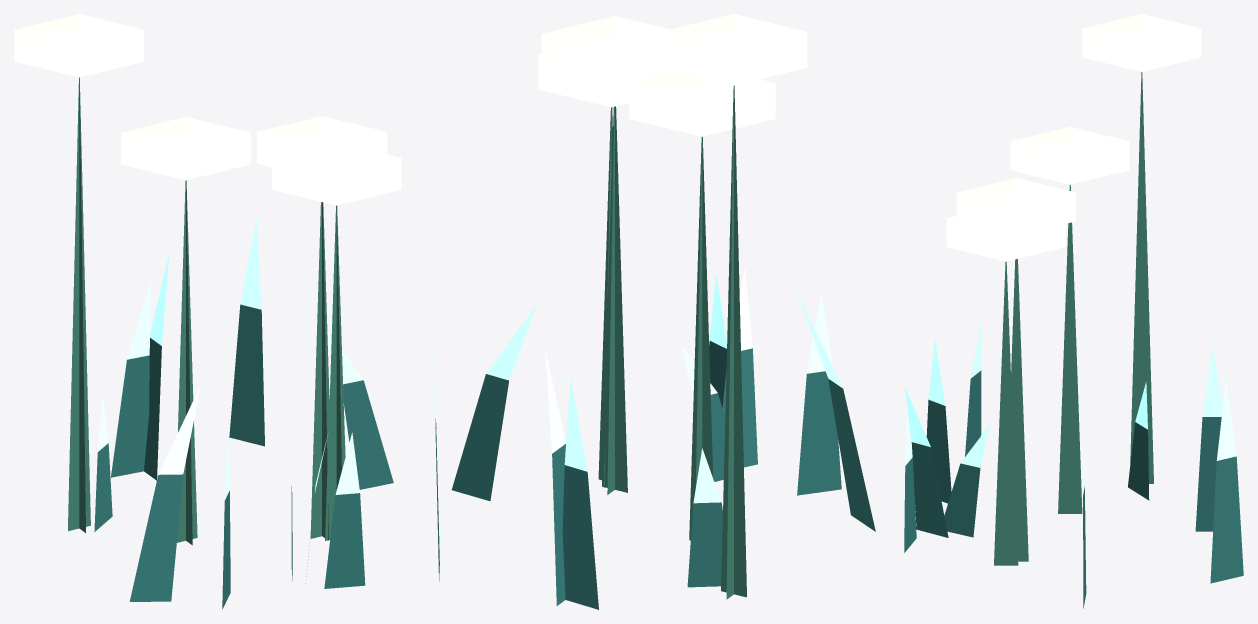
Rendered from flower_gold.glb.
3 renders of one model, left to right at view 1: azimuth 30°, elevation 25°; view 2: azimuth 150°, elevation 25°; view 3: azimuth 270°, elevation 25°, orthographic. The views are drawn at different scales.
Parts seen in each view (by area): view 1: flower_gold; view 2: flower_gold; view 3: flower_gold.
Part boxes in pixels (bbox=[...]): flower_gold: bbox=[14, 14, 401, 609]; flower_gold: bbox=[430, 14, 875, 609]; flower_gold: bbox=[904, 14, 1243, 608].
Size of the model in its own units: 0.2404 by 0.3292 by 0.2227.
